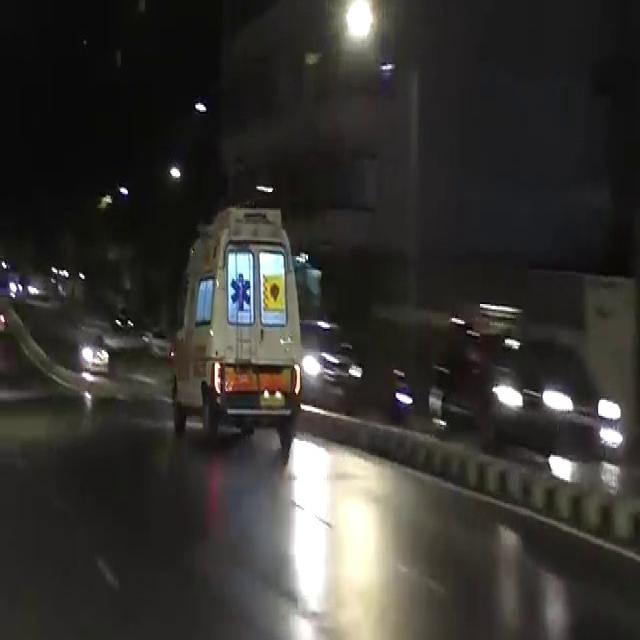ambulance: (172, 196, 332, 454)
